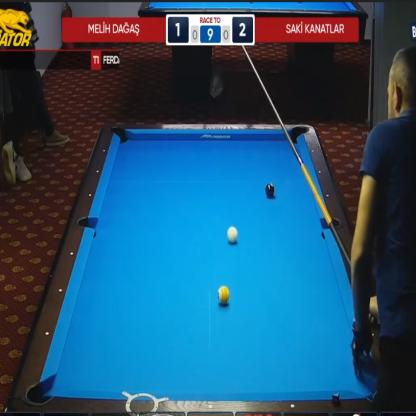Ball: (218, 286, 230, 305), (227, 226, 237, 244), (265, 184, 275, 198)
